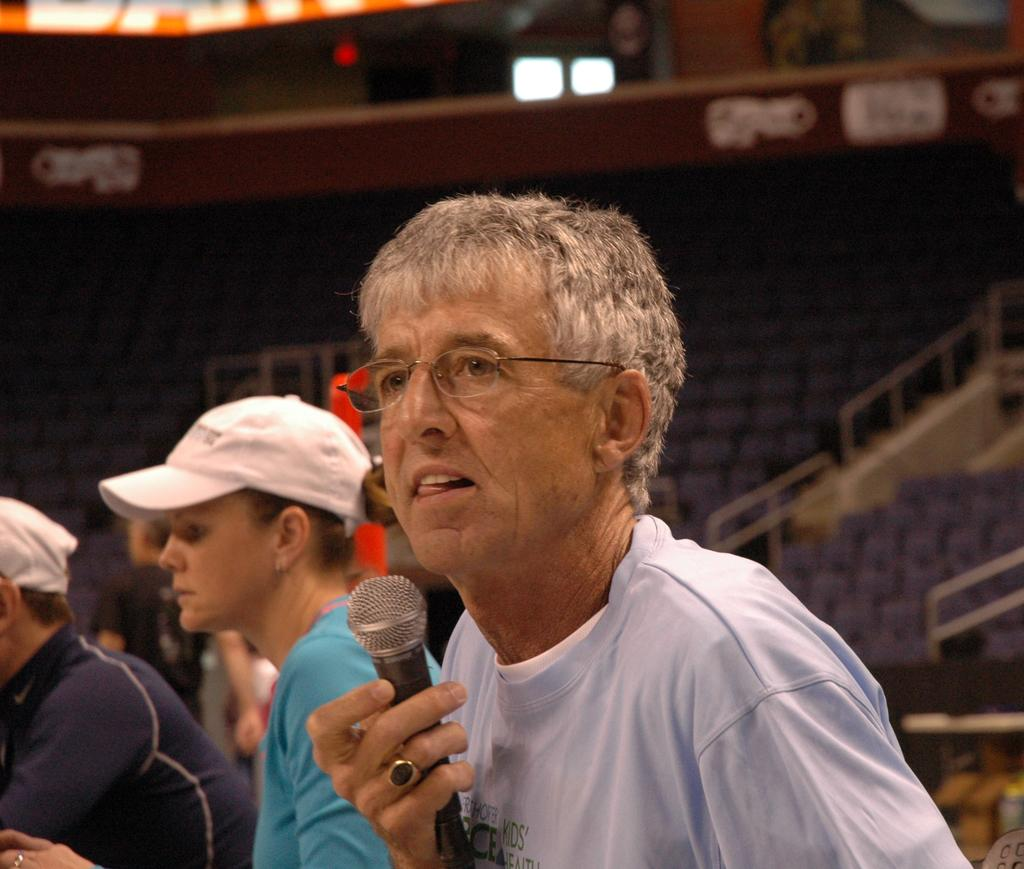Sem Máscara: (366, 268, 611, 567), (159, 482, 286, 631)
